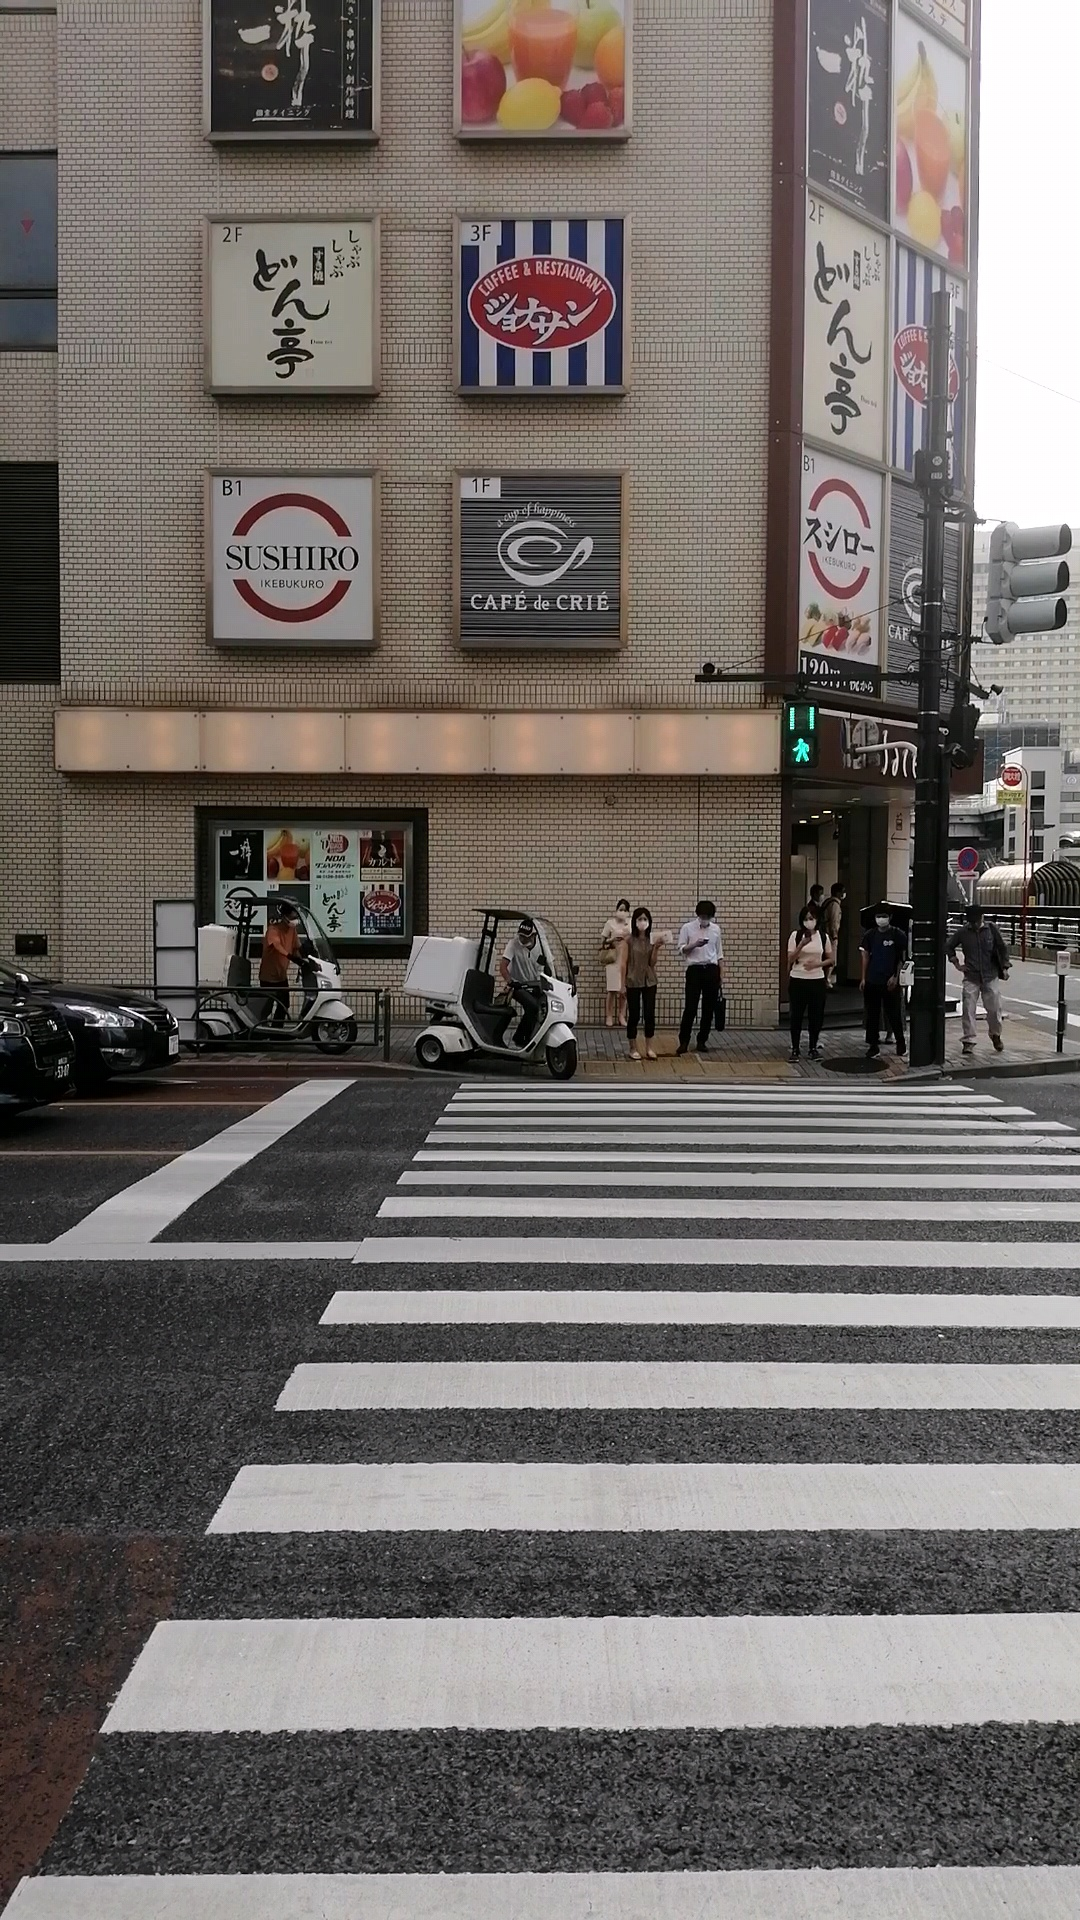green: (782, 702, 819, 769)
